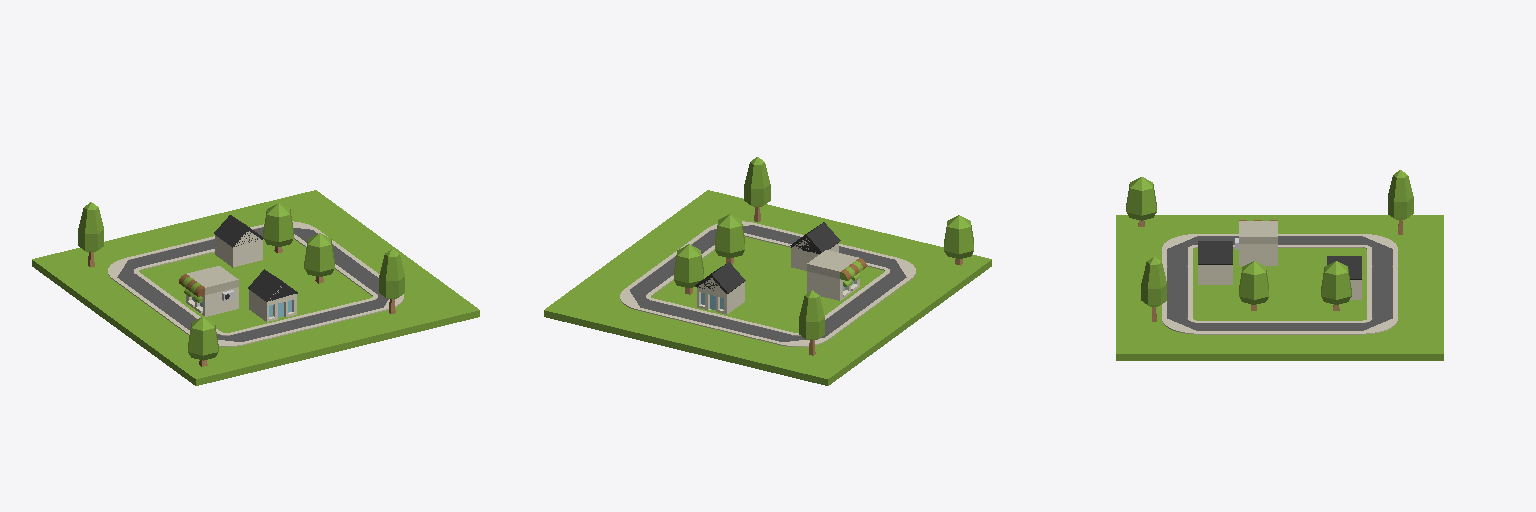
File: SmallTown.obj
3 renders of one model, left to right at view 1: azimuth 30°, elevation 25°; view 2: azimuth 150°, elevation 25°; view 3: azimuth 270°, elevation 25°, orthographic.
Visible parts, largest first — view 1: Mesh1_Group1_Model.445_Mesh1_Group1_Model.459; view 2: Mesh1_Group1_Model.445_Mesh1_Group1_Model.459; view 3: Mesh1_Group1_Model.445_Mesh1_Group1_Model.459.
Part boxes in pixels (x1,y1,x2,y2): Mesh1_Group1_Model.445_Mesh1_Group1_Model.459: (32, 190, 479, 385); Mesh1_Group1_Model.445_Mesh1_Group1_Model.459: (544, 157, 991, 385); Mesh1_Group1_Model.445_Mesh1_Group1_Model.459: (1116, 170, 1443, 360).
Size of the model in its own units: 24 by 5.73 by 24.